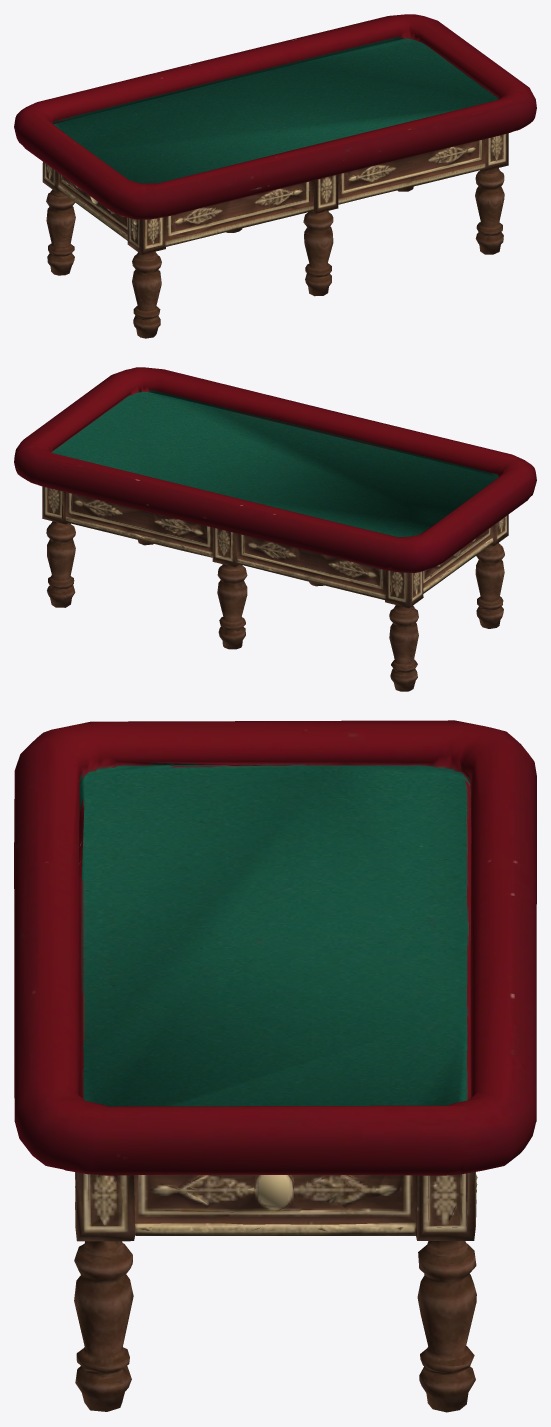
Rendered from rouletteTable.glb.
The picture shows the model from 3 angles, top to bottom: view 1: azimuth 30°, elevation 25°; view 2: azimuth 150°, elevation 25°; view 3: azimuth 270°, elevation 25°; orthographic projection. The views are drawn at different scales.
Visible parts, largest first — view 1: Mesh_0; view 2: Mesh_0; view 3: Mesh_0.
Boxes of the visible parts, x1=… form: Mesh_0: x1=14, y1=14, x2=536, y2=338; Mesh_0: x1=14, y1=367, x2=536, y2=691; Mesh_0: x1=14, y1=720, x2=536, y2=1412.
Size of the model in its own units: 2.64 by 0.95 by 1.41.
Materials: 1 (1 with a texture image).
